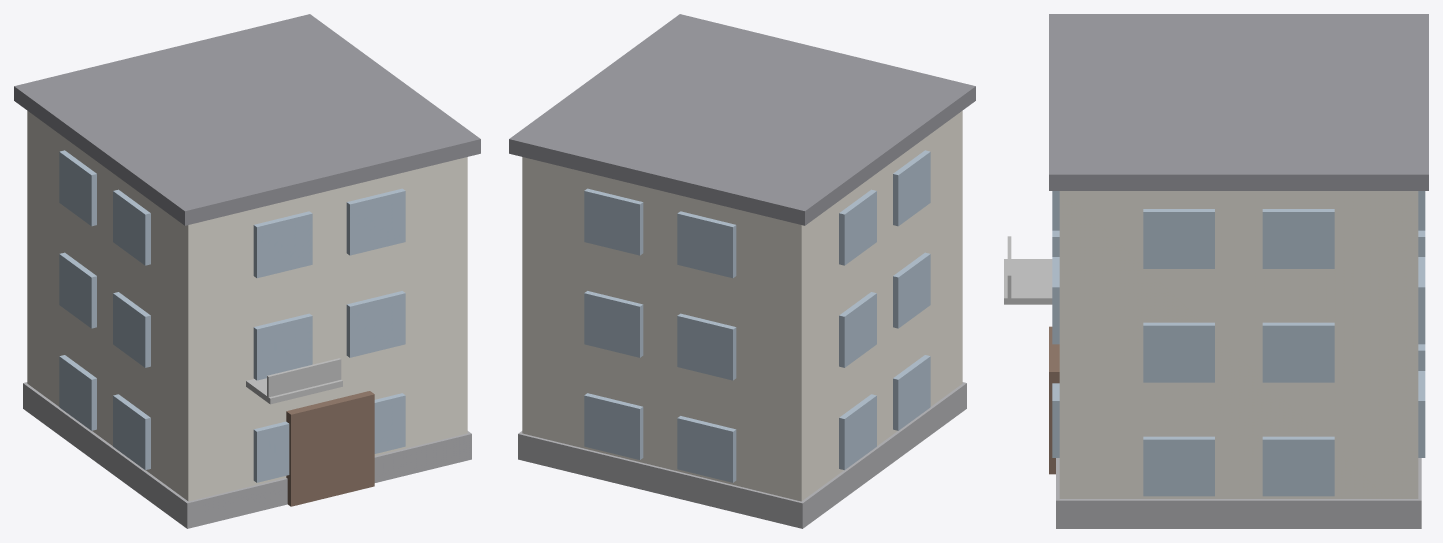
File: Apt_1x1_3F.glb
The picture shows the model from 3 angles, left to right: view 1: azimuth 30°, elevation 25°; view 2: azimuth 150°, elevation 25°; view 3: azimuth 270°, elevation 25°; orthographic projection. The views are drawn at different scales.
Visible parts, largest first — view 1: Apt_1x1_3F; view 2: Apt_1x1_3F; view 3: Apt_1x1_3F.
Boxes of the visible parts, left/top/right/bottom form: Apt_1x1_3F: left=14, top=14, right=480, bottom=528; Apt_1x1_3F: left=509, top=14, right=975, bottom=528; Apt_1x1_3F: left=1004, top=14, right=1428, bottom=528.
Bounding box in the file's own units: 1.06 × 1.1 × 1.18.
